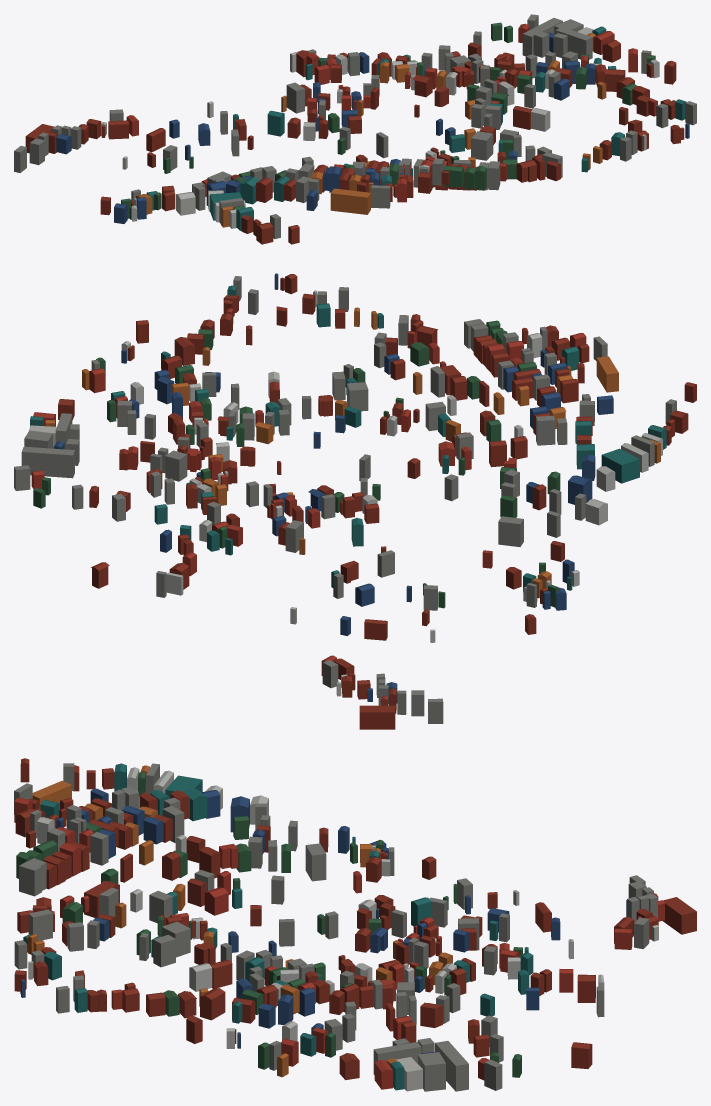
Rendered from near-16-54724-29728.1067c271.glb.
The picture shows the model from 3 angles, top to bottom: view 1: azimuth 30°, elevation 25°; view 2: azimuth 150°, elevation 25°; view 3: azimuth 270°, elevation 25°; orthographic projection. The views are drawn at different scales.
Bounding box in the file's own units: 600 × 172 × 595.
